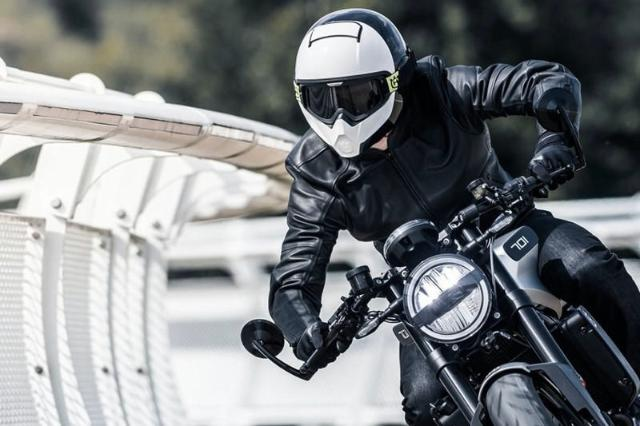helm: (296, 8, 418, 163)
motor: (241, 171, 640, 426)
